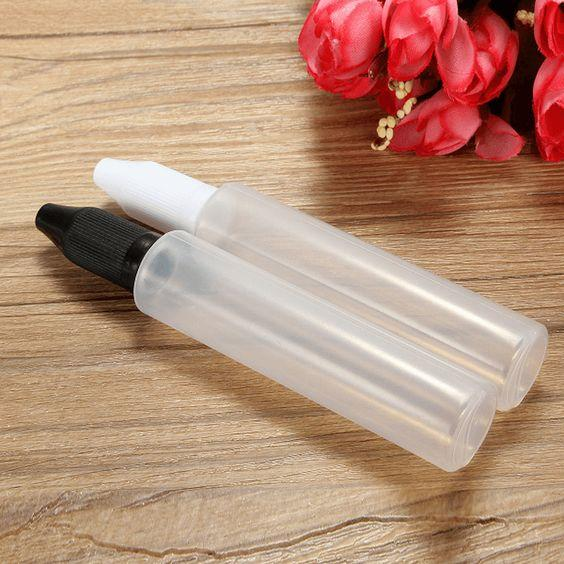HDPE: (35, 201, 156, 293), (94, 158, 219, 230)
PP: (135, 232, 497, 475), (195, 183, 547, 413)
